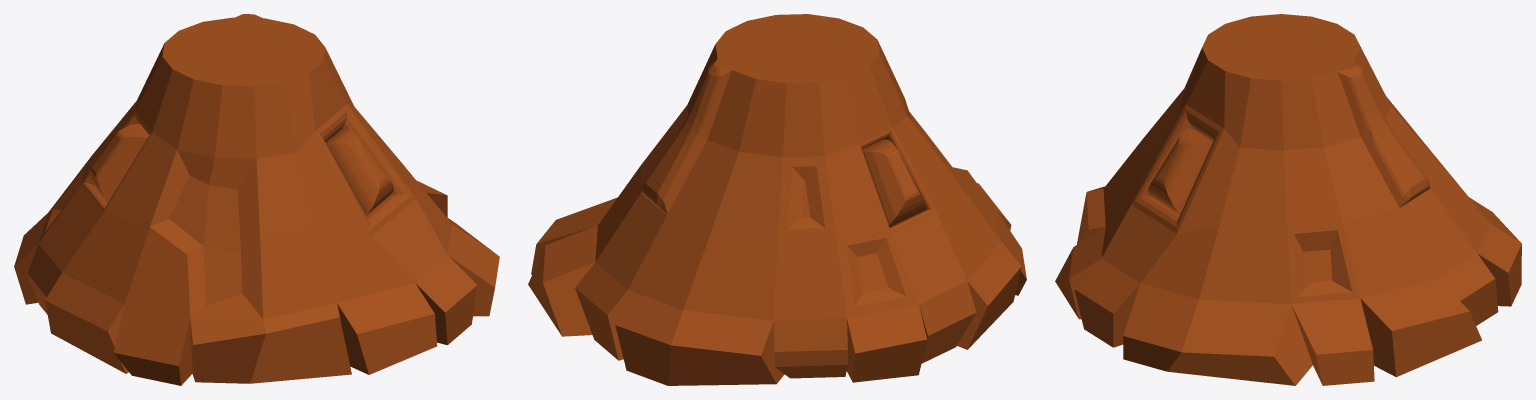
Rendered from agac_kok3.fbx.
3 views of the same model, side by side, from view 1: azimuth 30°, elevation 25°; view 2: azimuth 150°, elevation 25°; view 3: azimuth 270°, elevation 25° (orthographic). The views are drawn at different scales.
Visible parts, largest first — view 1: Cylinder.015; view 2: Cylinder.015; view 3: Cylinder.015.
Part boxes in pixels (x1,y1,x2,y2): Cylinder.015: (14, 14, 499, 385); Cylinder.015: (528, 14, 1026, 385); Cylinder.015: (1055, 14, 1521, 385).
Bounding box in the file's own units: 8.99 × 5.06 × 8.99.
